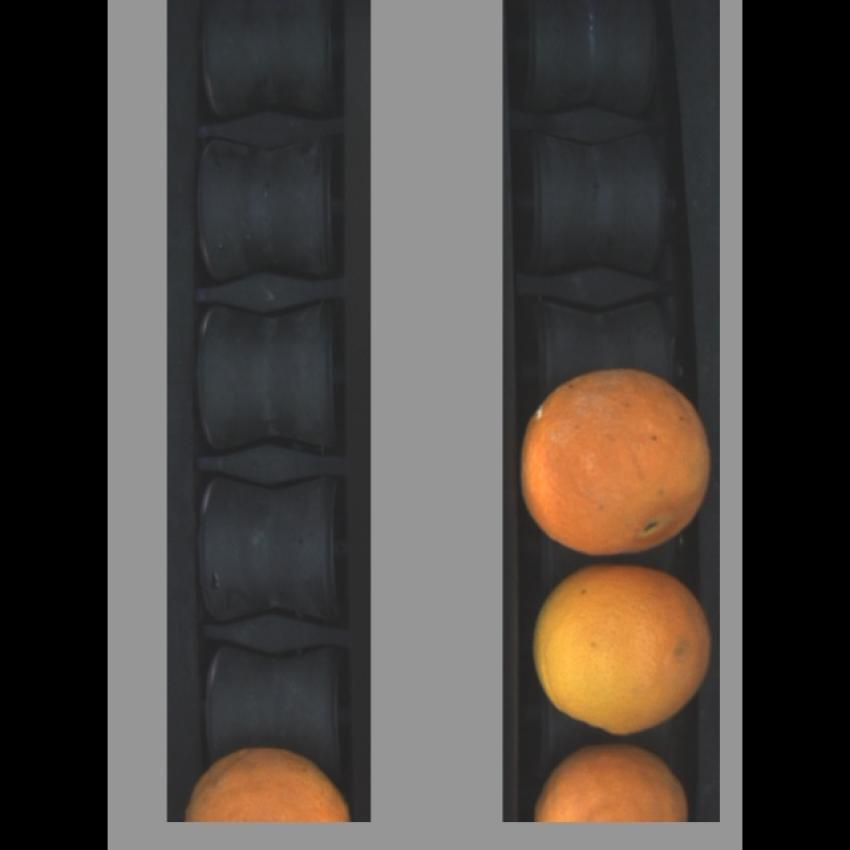Buen estado: (527, 563, 718, 740)
Mal estado: (514, 360, 718, 564), (179, 740, 360, 821), (534, 745, 689, 821)
